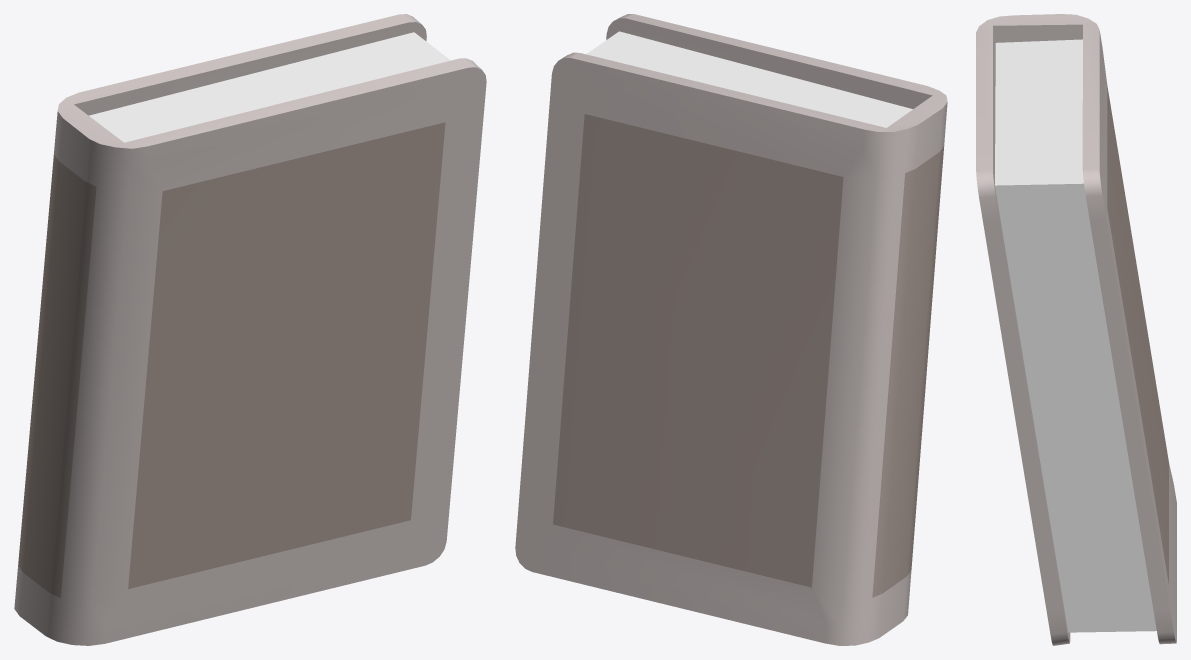
The model's file is book_11.fbx.
3 renders of one model, left to right at view 1: azimuth 30°, elevation 25°; view 2: azimuth 150°, elevation 25°; view 3: azimuth 270°, elevation 25°, orthographic. The views are drawn at different scales.
Parts seen in each view (by area): view 1: book_11; view 2: book_11; view 3: book_11.
Part boxes in pixels (box(x1,y1,x2,y2)): book_11: box(14, 14, 486, 645); book_11: box(515, 14, 947, 645); book_11: box(976, 14, 1176, 645).
Size of the model in its own units: 0.2875 by 0.3873 by 0.1483.
